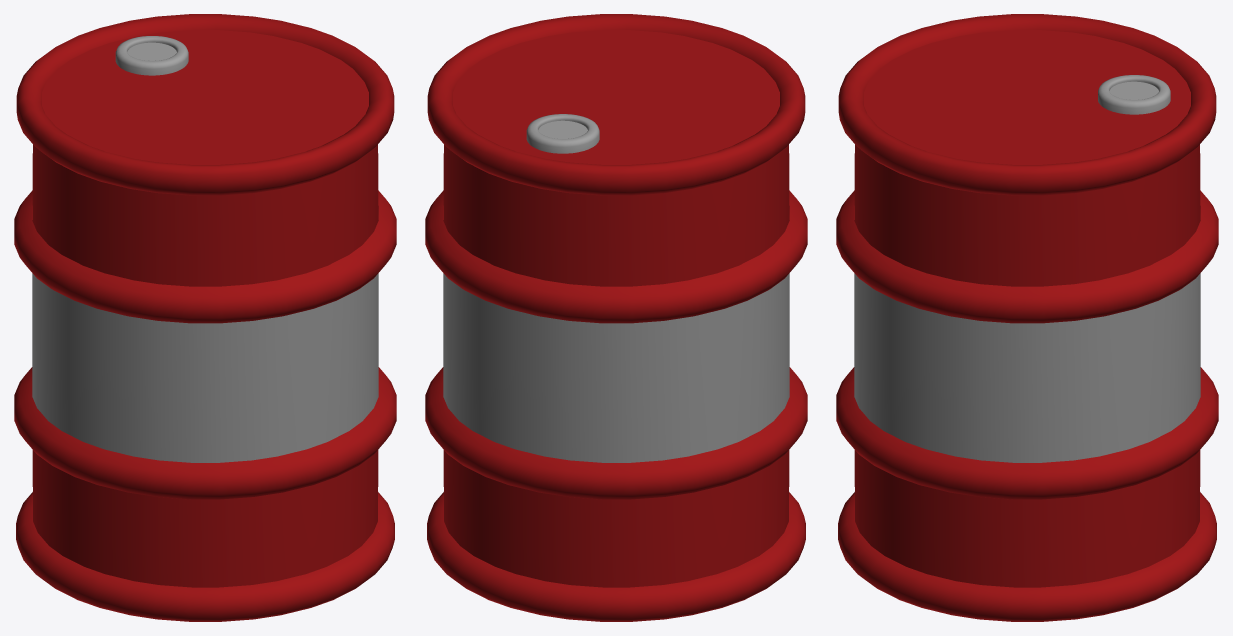
Rendered from barrel1.fbx.
3 views of the same model, side by side, from view 1: azimuth 30°, elevation 25°; view 2: azimuth 150°, elevation 25°; view 3: azimuth 270°, elevation 25° (orthographic).
Visible parts, largest first — view 1: Circle.003; view 2: Circle.003; view 3: Circle.003.
Part boxes in pixels (x1=…): Circle.003: x1=14, y1=14, x2=396, y2=621; Circle.003: x1=425, y1=14, x2=807, y2=621; Circle.003: x1=836, y1=14, x2=1218, y2=621.
Bounding box in the file's own units: 1.49 × 1.96 × 1.49.
